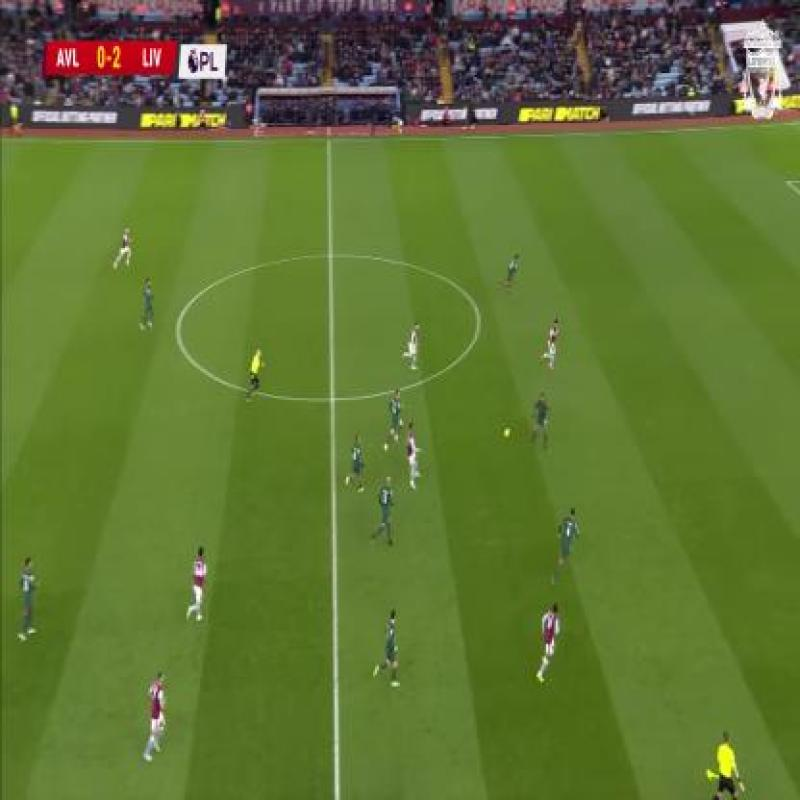13: (319, 120, 344, 164)
14: (316, 232, 346, 274)
15: (317, 375, 346, 421)
9: (779, 160, 800, 202)
c: (158, 302, 200, 360), (459, 300, 501, 340)
